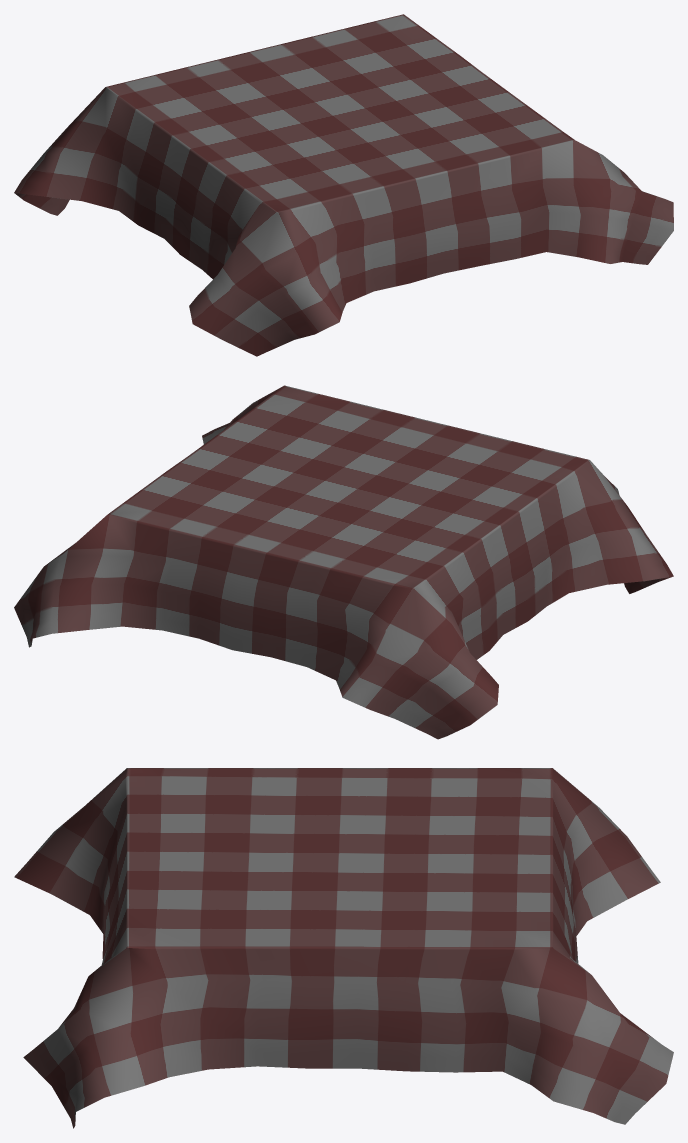
The model's file is S_TableCloth.fbx.
The picture shows the model from 3 angles, top to bottom: view 1: azimuth 30°, elevation 25°; view 2: azimuth 150°, elevation 25°; view 3: azimuth 270°, elevation 25°; orthographic projection. The views are drawn at different scales.
Visible parts, largest first — view 1: S_TableCloth; view 2: S_TableCloth; view 3: S_TableCloth.
Boxes of the visible parts, left/top/right/bottom form: S_TableCloth: left=14, top=14, right=673, bottom=356; S_TableCloth: left=14, top=385, right=673, bottom=739; S_TableCloth: left=14, top=768, right=673, bottom=1128.
Bounding box in the file's own units: 187 × 48.99 × 182.
